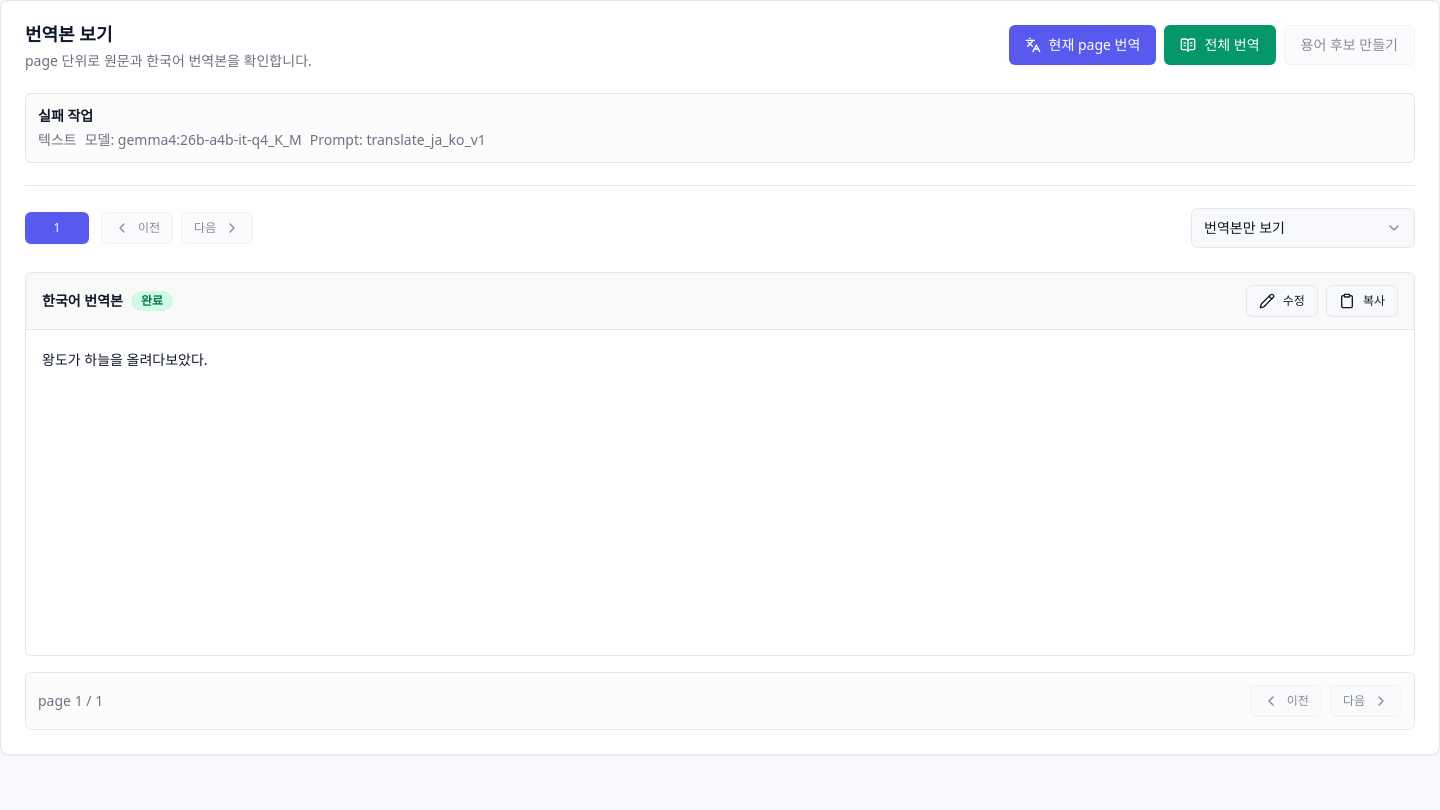
Scenario: TranslationViewer translation editing › cancels translation edits and restores the saved text
Click the button "수정": coordinates (1282, 301) [1246,285,1318,317]
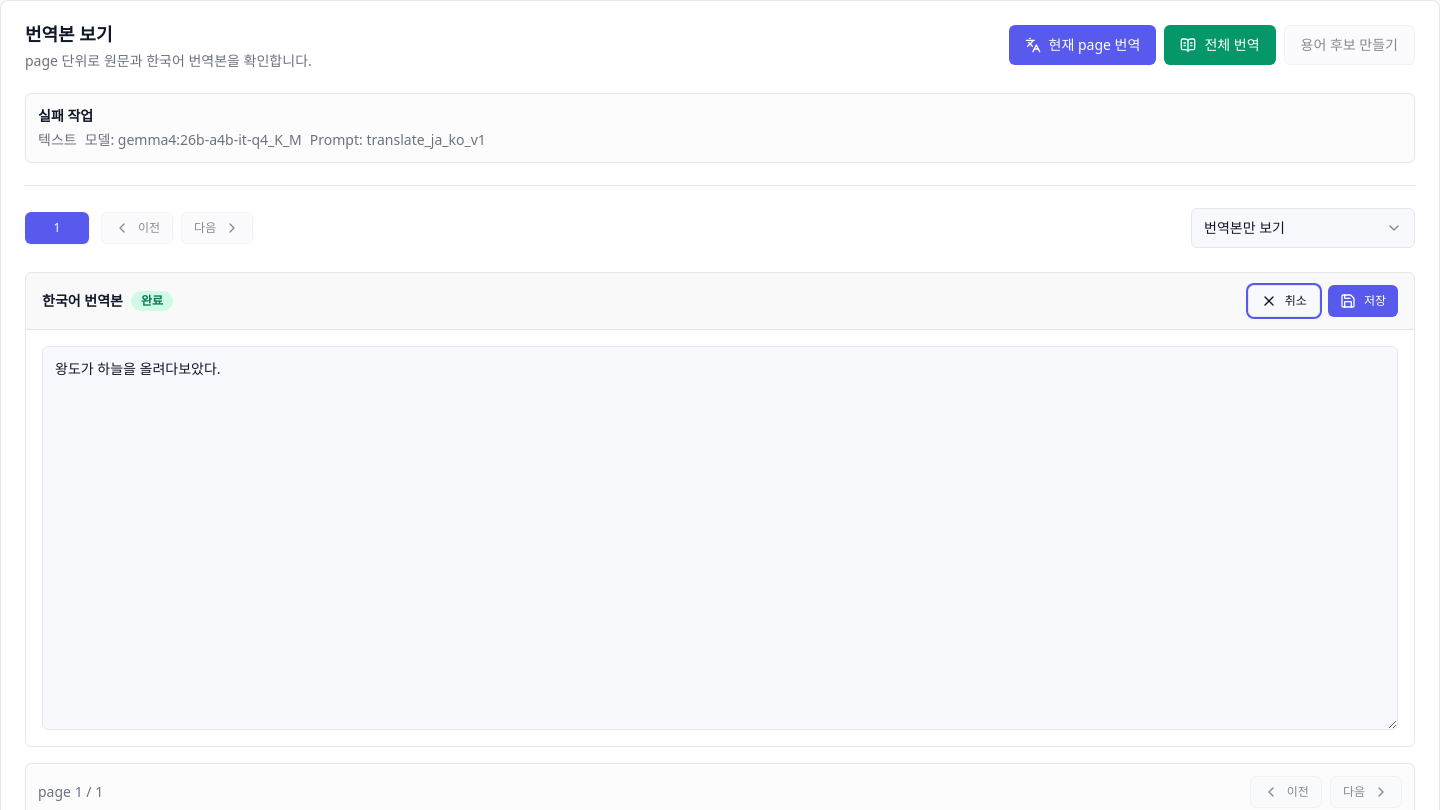
Replace the text in the text box named "번역문 수정" with "임시 수정": coordinates (720, 538) [42,346,1398,730]
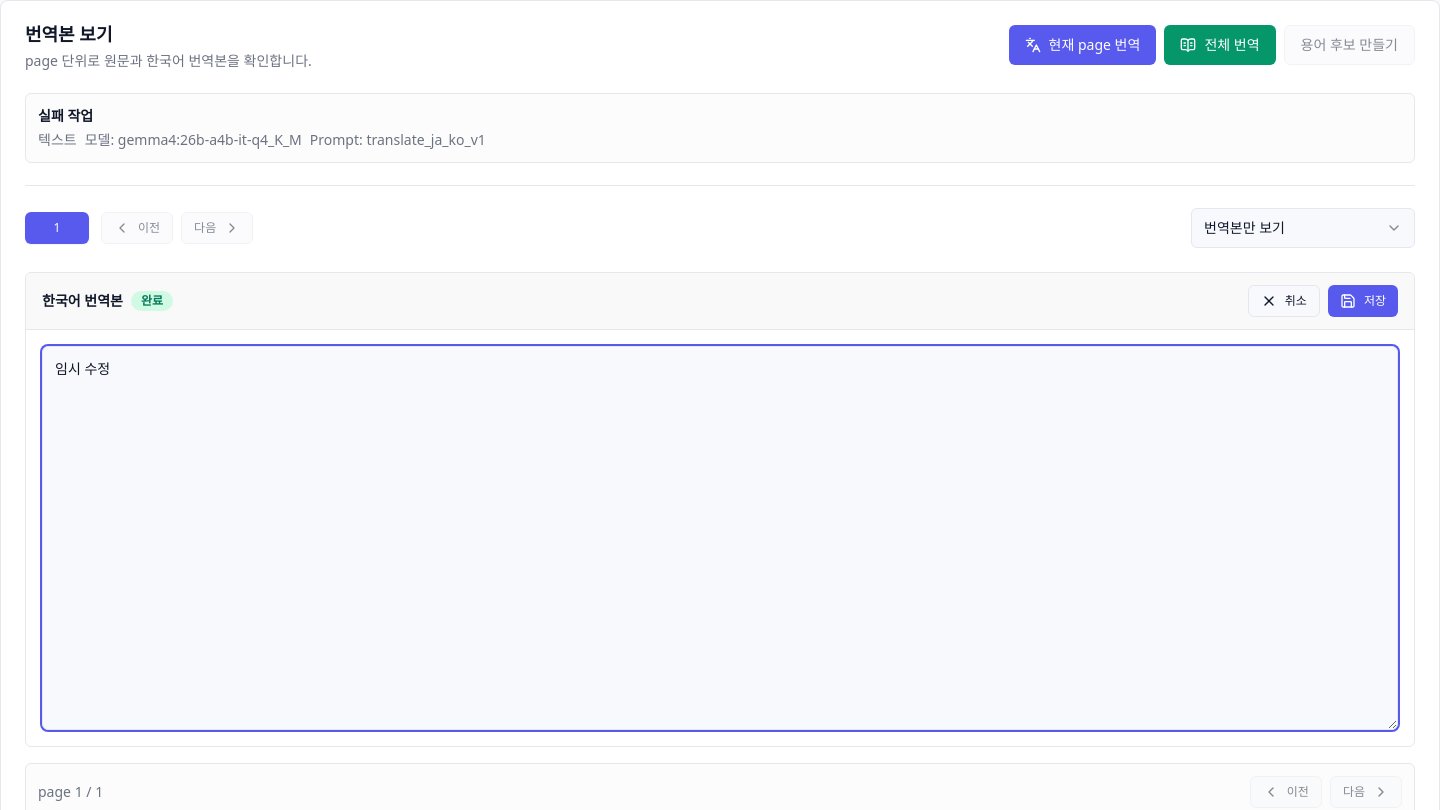
Click the button "취소": coordinates (1284, 301) [1248,285,1320,317]
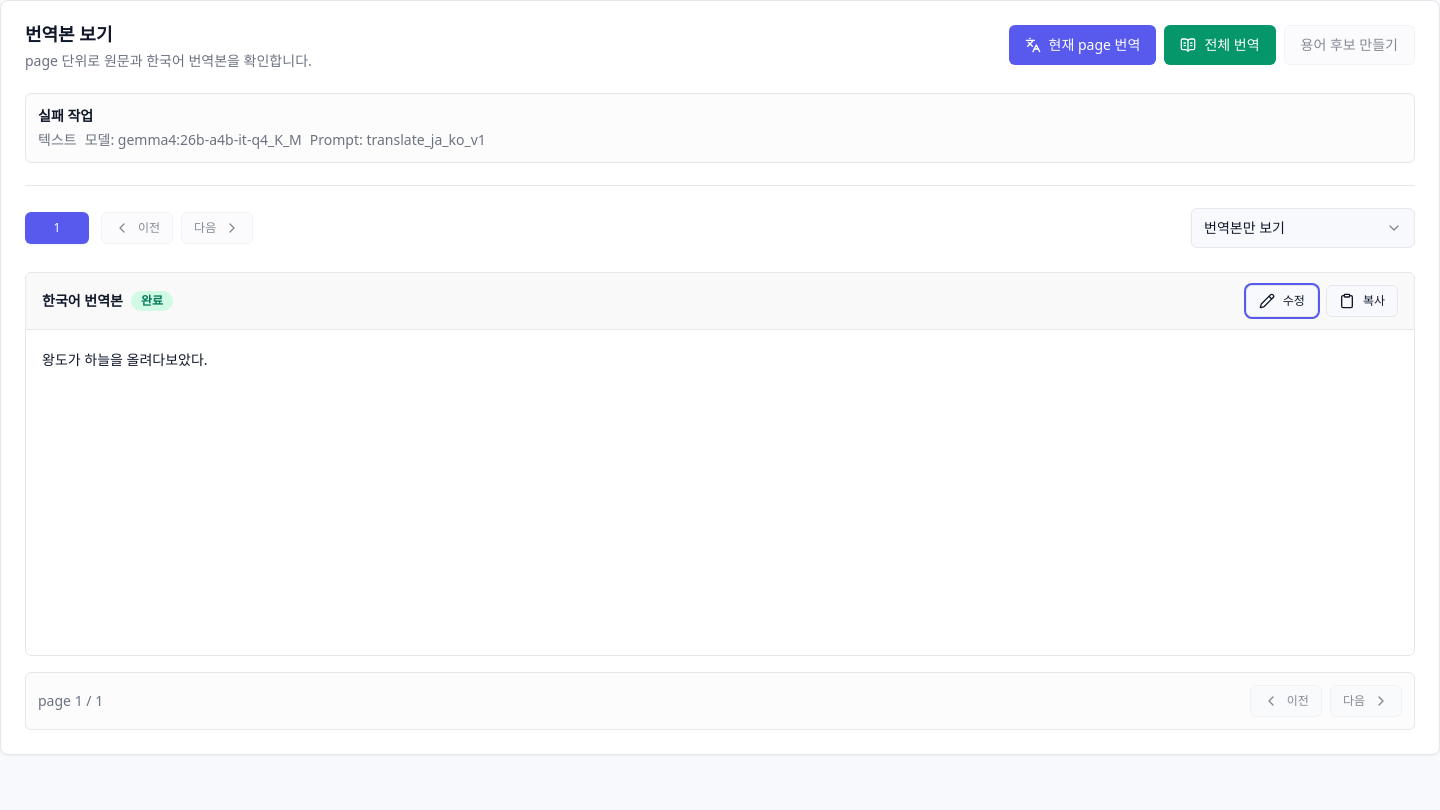
Check: the text "왕도가 하늘을 올려다보았다." is shown, box [42,350,208,369]
